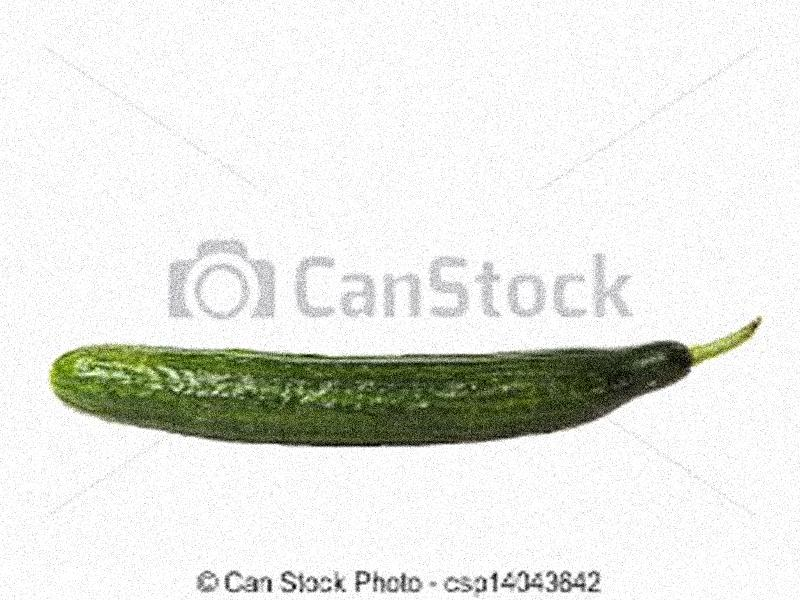Cucumber: (53, 320, 765, 447)
